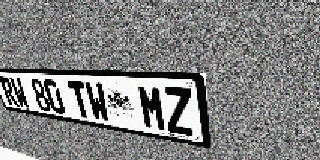0: (42, 79, 66, 115)
8: (29, 78, 52, 113)
M: (137, 85, 168, 132)
R: (0, 77, 19, 107)
T: (67, 81, 93, 119)
W: (84, 82, 111, 122), (9, 77, 31, 109)
Z: (162, 86, 195, 136)
